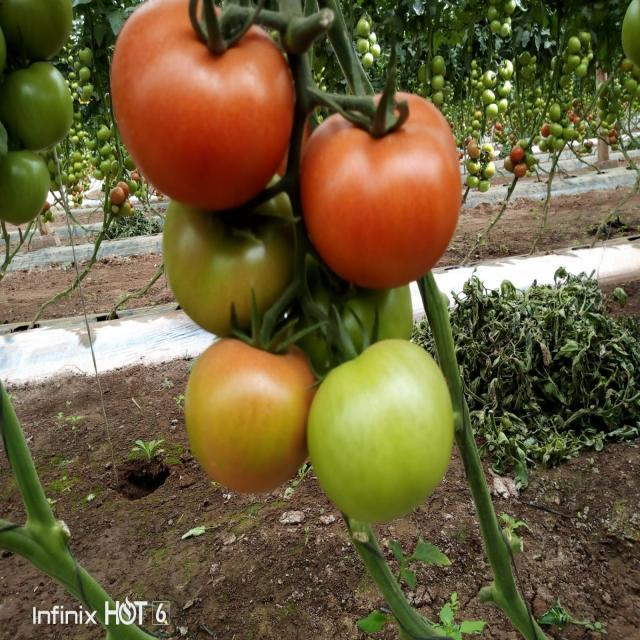Ripe Tomato: (112, 18, 294, 190), (296, 105, 468, 279)
Unripe Tomato: (184, 320, 319, 523), (315, 360, 453, 516), (153, 185, 303, 316)
